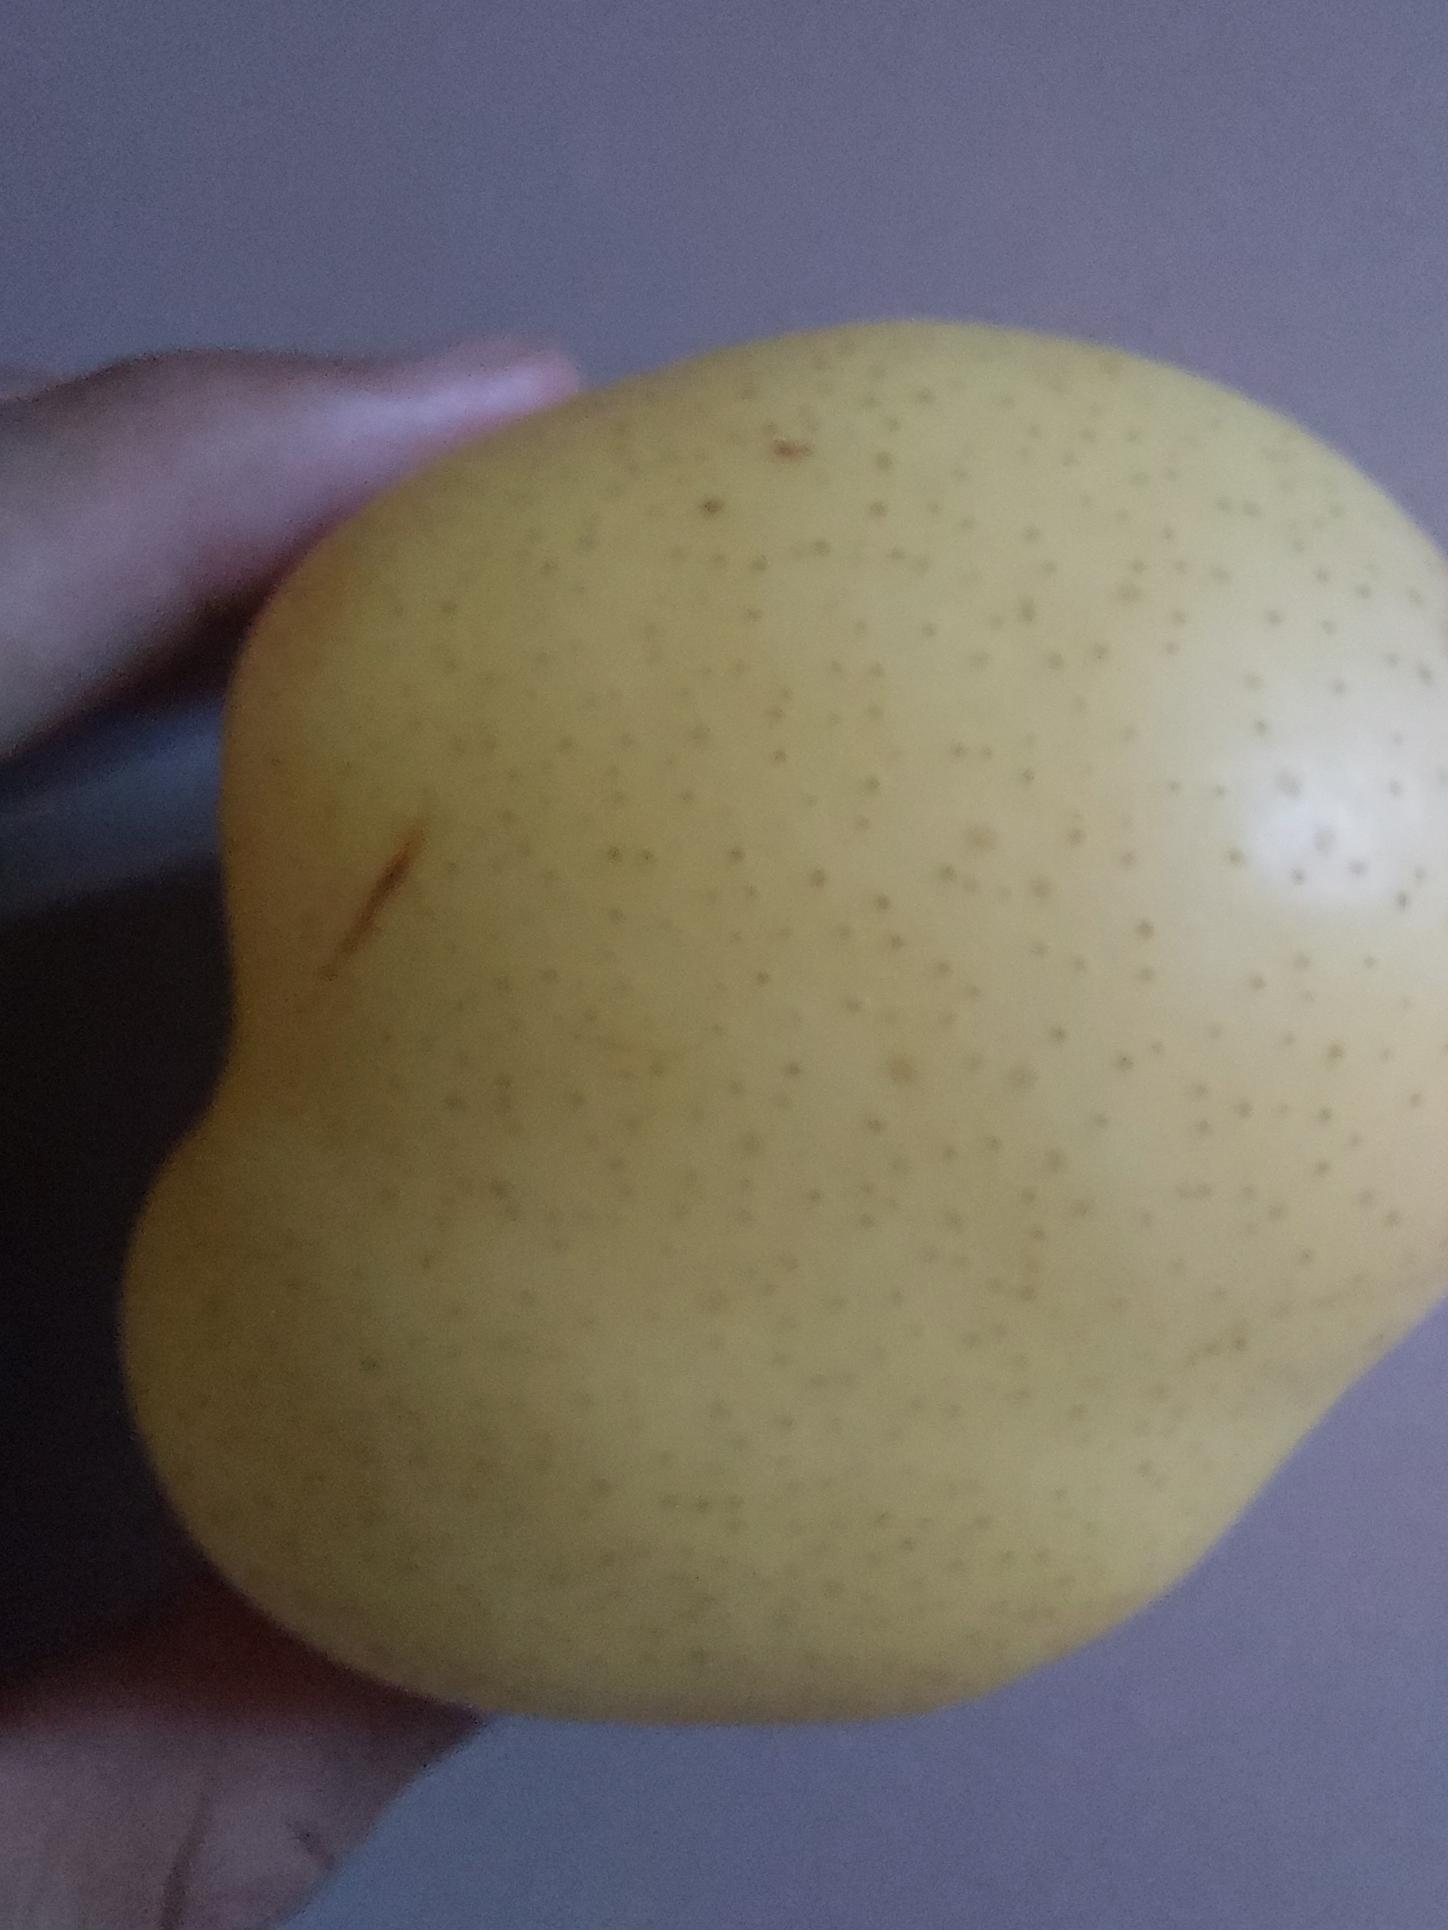Good Pear: (120, 309, 1448, 1729)
